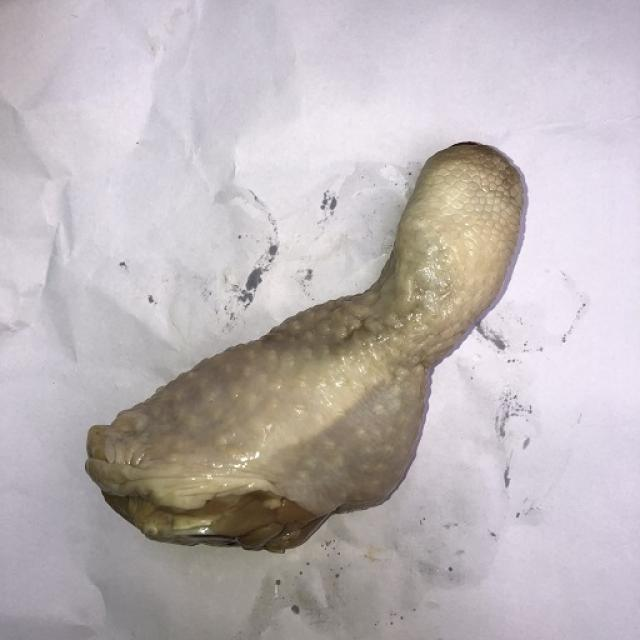Wet Waste: (67, 130, 545, 580)
